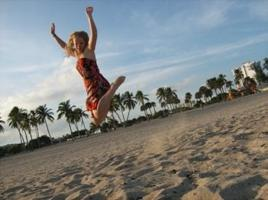person: (51, 7, 127, 127)
